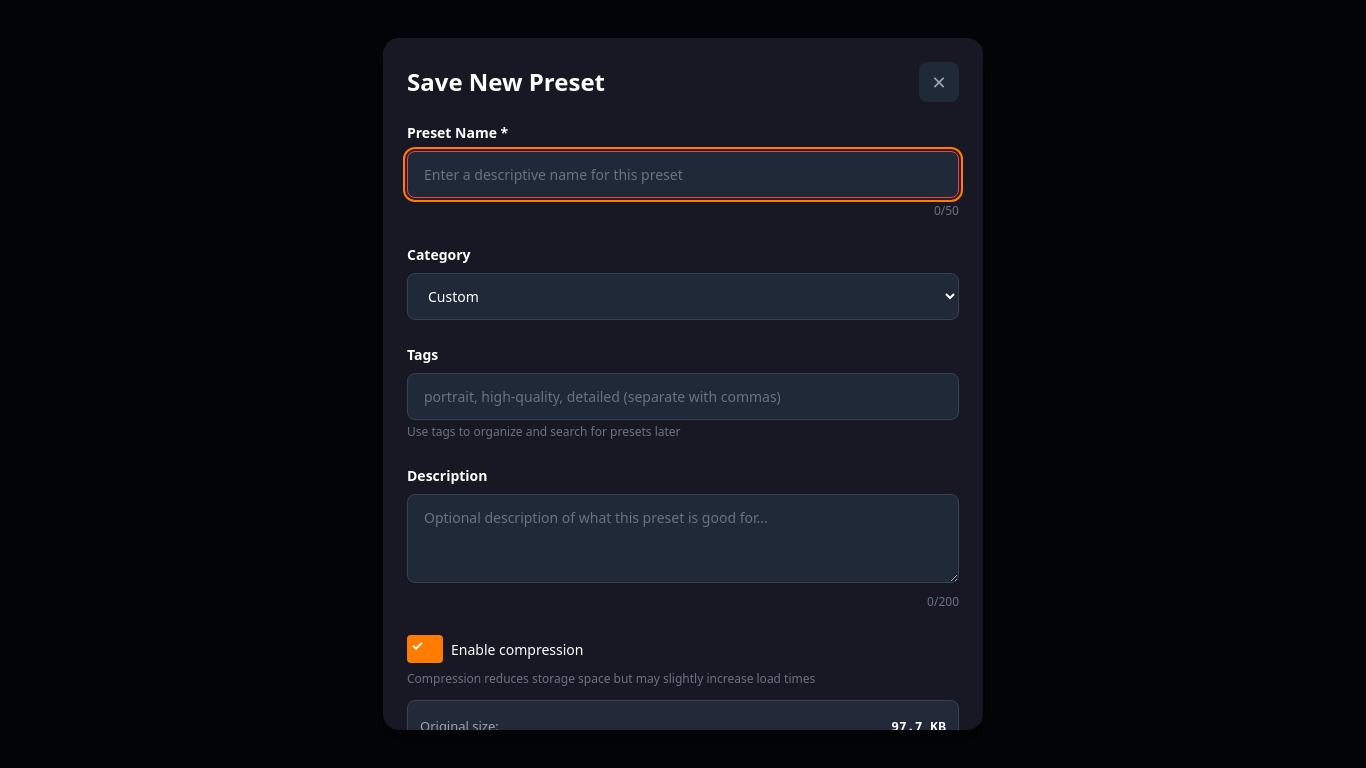
Test: PresetSaveDialog › form validation › should show error for empty name
Clear the field labelled "Preset Name *" at x=683, y=175, box [407,151,959,198]
(page scrolled)
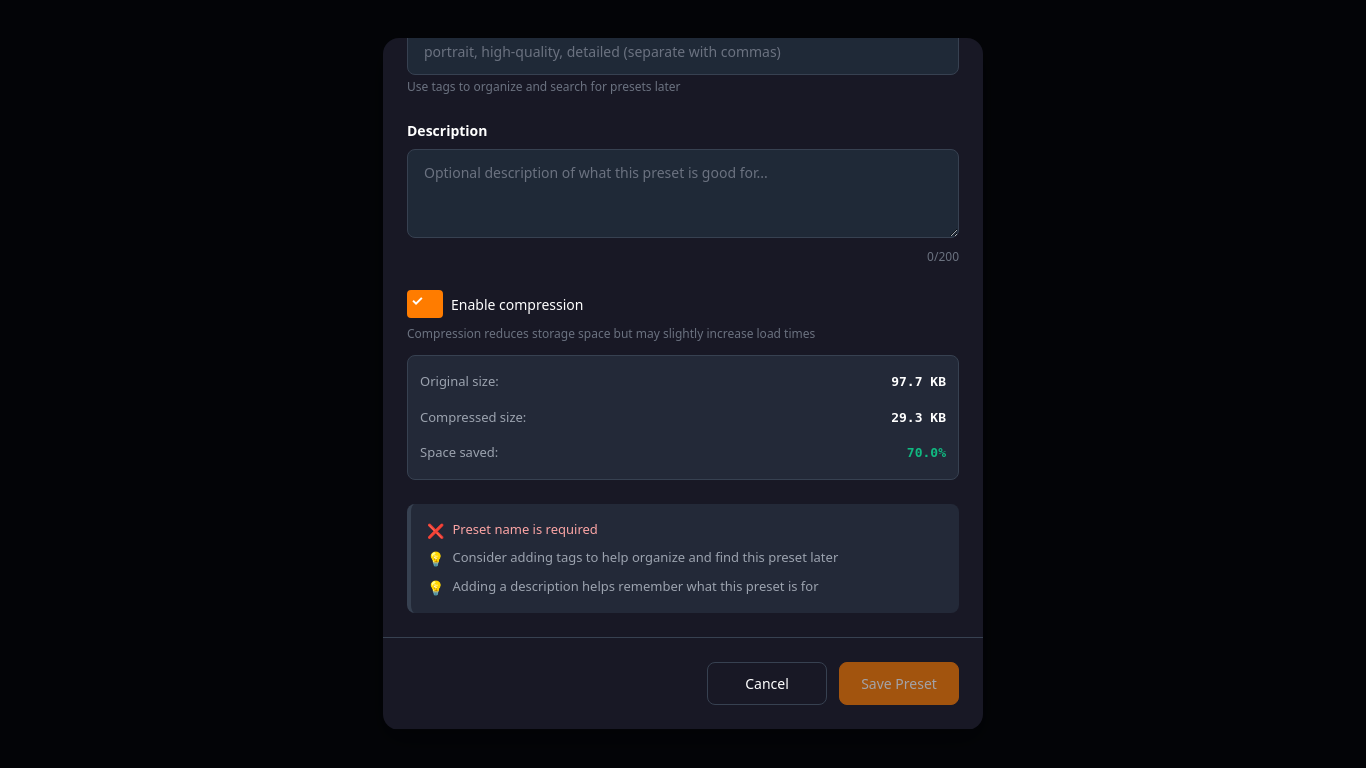
Expected: the text "Preset name is required" is shown, [452,520,598,538]
Expected: the button "Save Preset" is disabled, [839,662,959,705]
